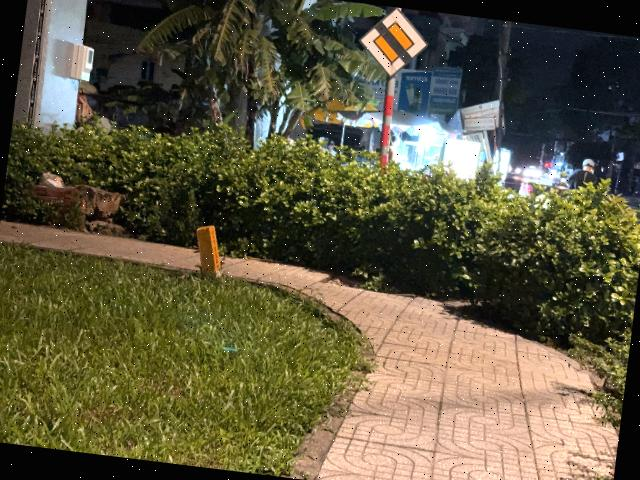het-duong-uu-tien: (354, 4, 434, 84)
